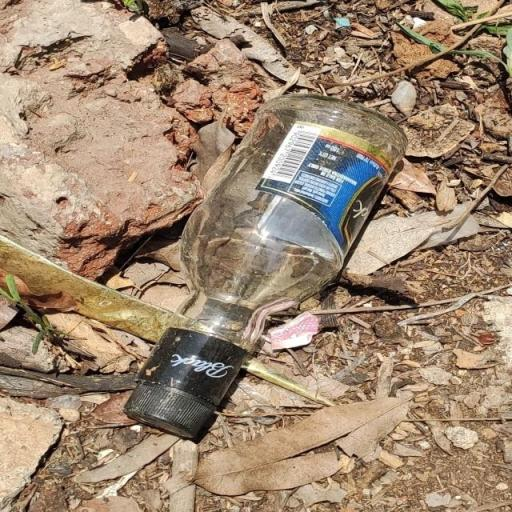glass: (106, 78, 420, 462)
